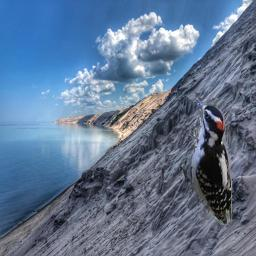Woodpecker: (180, 95, 232, 225)
